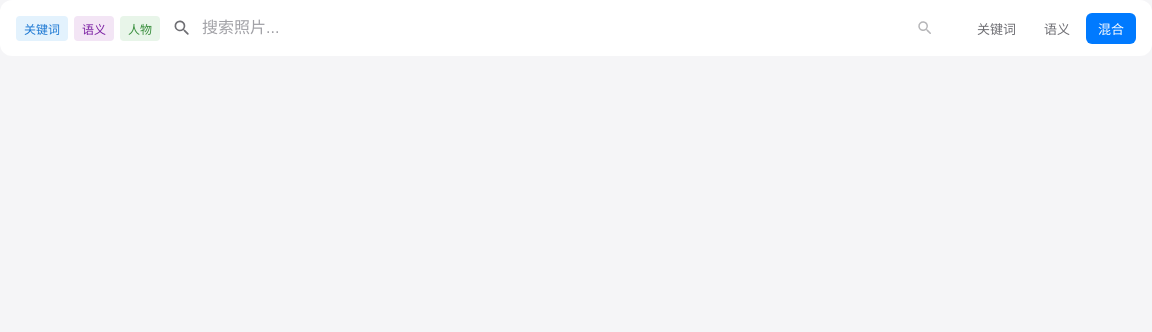
Test: SearchBar Component - Epic E-05 › E-05.3: 搜索历史记录 › should limit displayed history to 5 items (AC: 显示历史搜索记录)
Focus the field with class "search-input" at (550, 28), box [200,18,901,38]
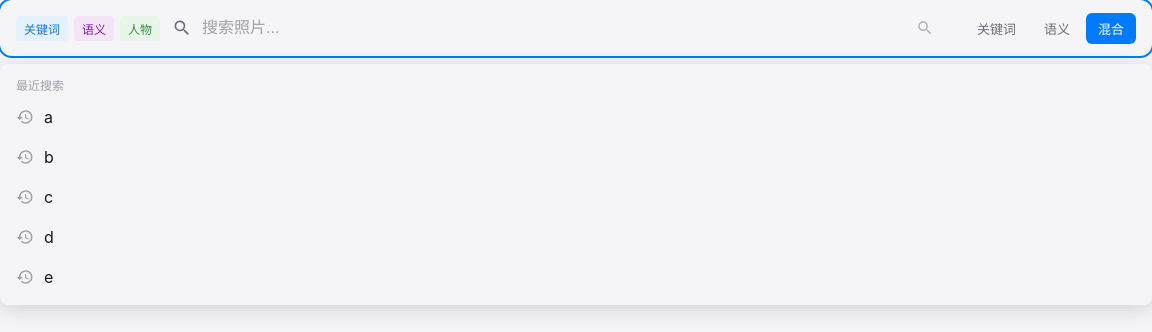
Expected: the number of elements with class "suggestion-item" is 5, [16,107,53,127]; [16,147,54,167]; [16,187,53,207]; [16,227,54,247]; [16,267,53,287]
